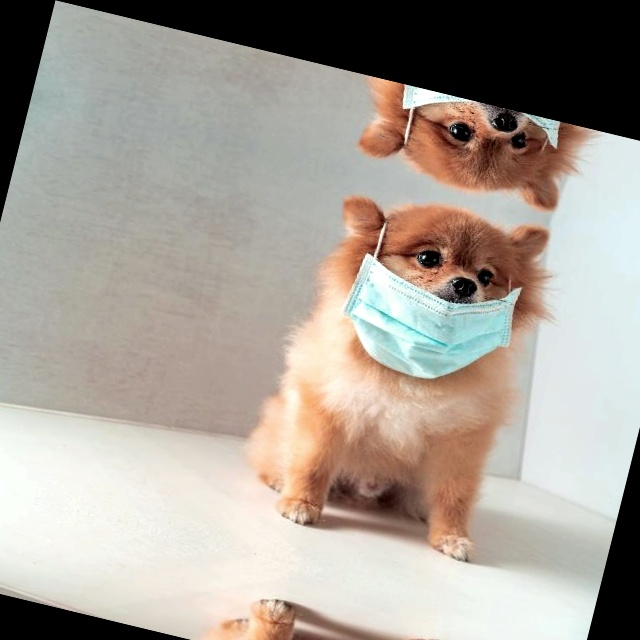dog: (227, 165, 604, 603), (319, 69, 628, 232), (200, 558, 506, 640)
